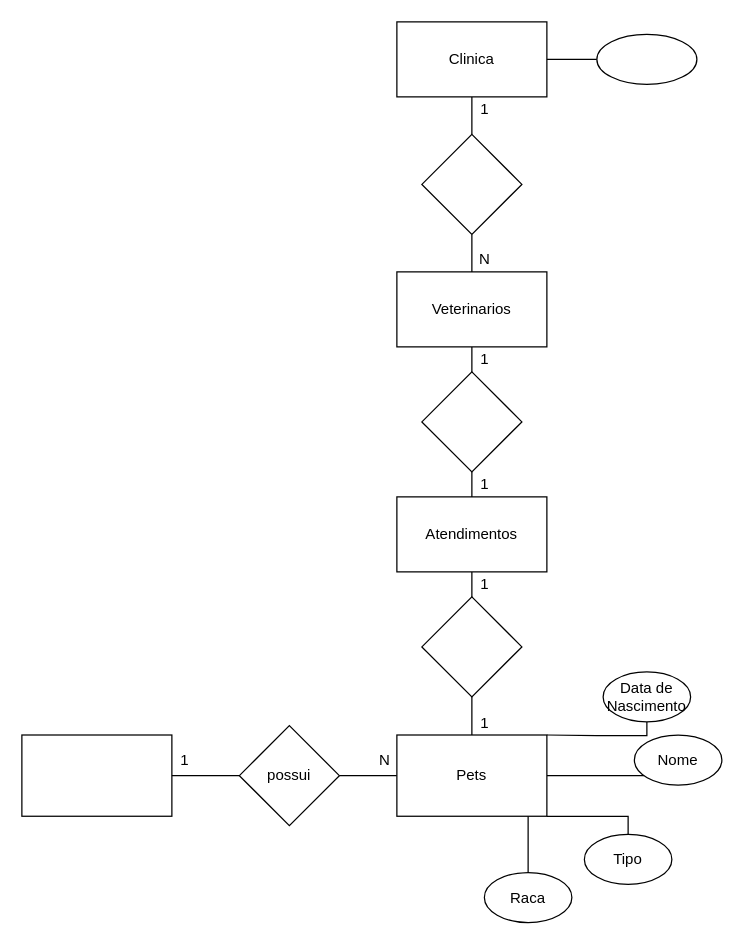
Image size: 744x945. Some labels were removed from this diagram. The centre of each missing label's shape, as x and y in pixels:
"Donos" belongs at [96,775].
"emprega" belongs at [471,183].
"endereco" belongs at [646,58].
"faz" belongs at [471,421].
"feito" belongs at [471,646].
